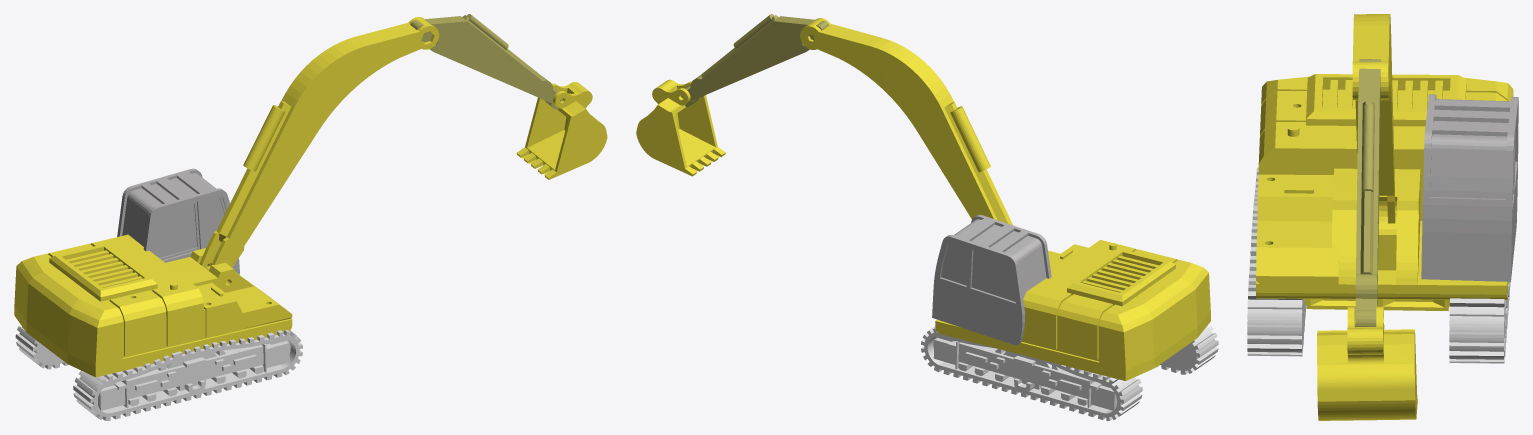
Rendered from excavator.gltf.
The picture shows the model from 3 angles, left to right: view 1: azimuth 30°, elevation 25°; view 2: azimuth 150°, elevation 25°; view 3: azimuth 270°, elevation 25°; orthographic projection. The views are drawn at different scales.
Parts seen in each view (by area): view 1: shovelobj; view 2: shovelobj; view 3: shovelobj.
Boxes of the visible parts, bbox=[...] form: shovelobj: bbox=[14, 14, 607, 420]; shovelobj: bbox=[636, 14, 1218, 420]; shovelobj: bbox=[1247, 14, 1518, 420].
Size of the model in its own units: 30.48 by 15.47 by 8.86.
